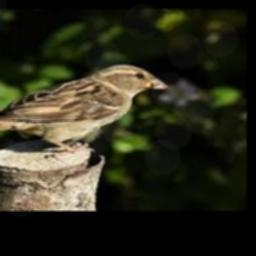Sparrow: (0, 64, 168, 151)
